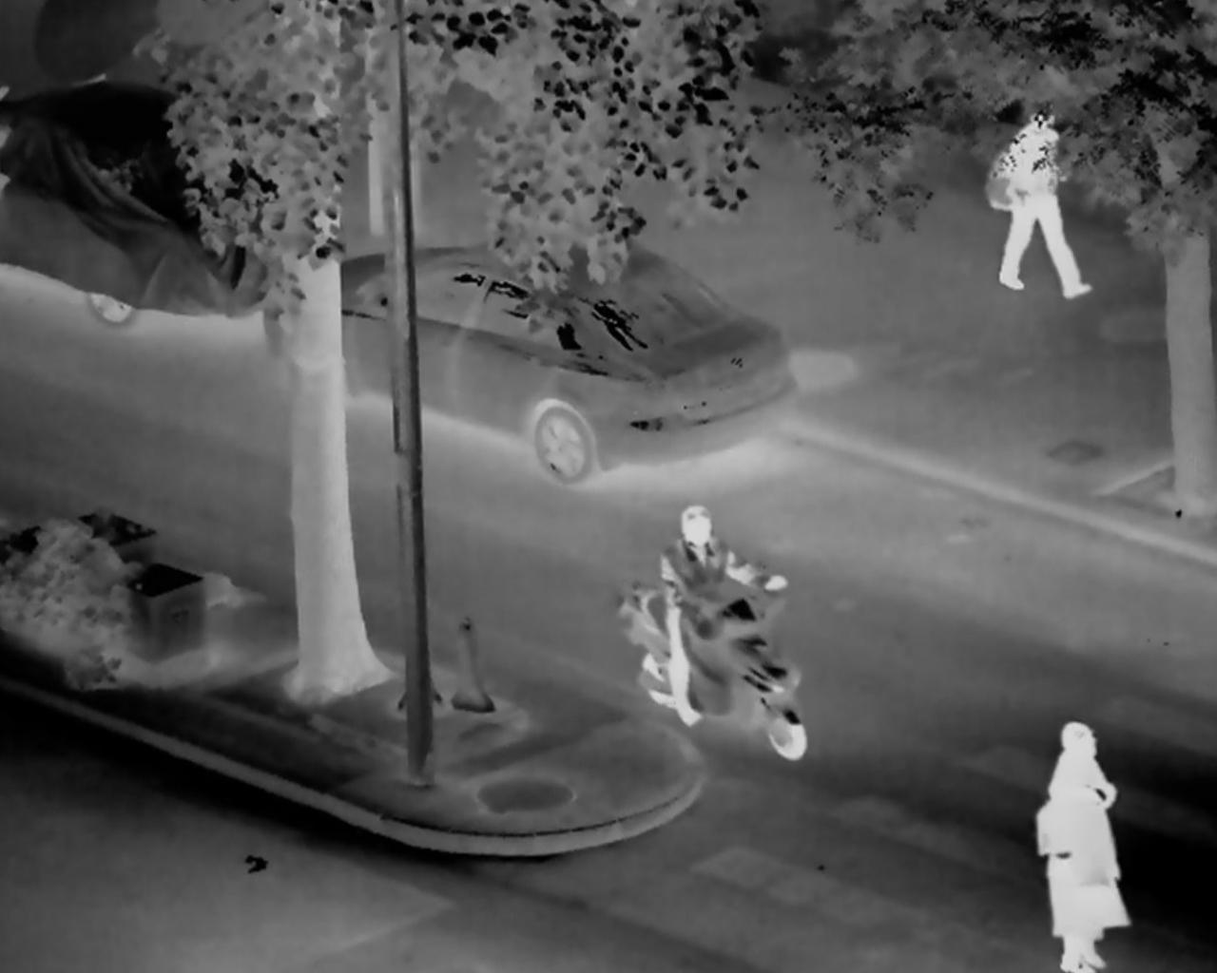person: (629, 492, 795, 747), (1007, 698, 1151, 973), (992, 96, 1100, 306)
